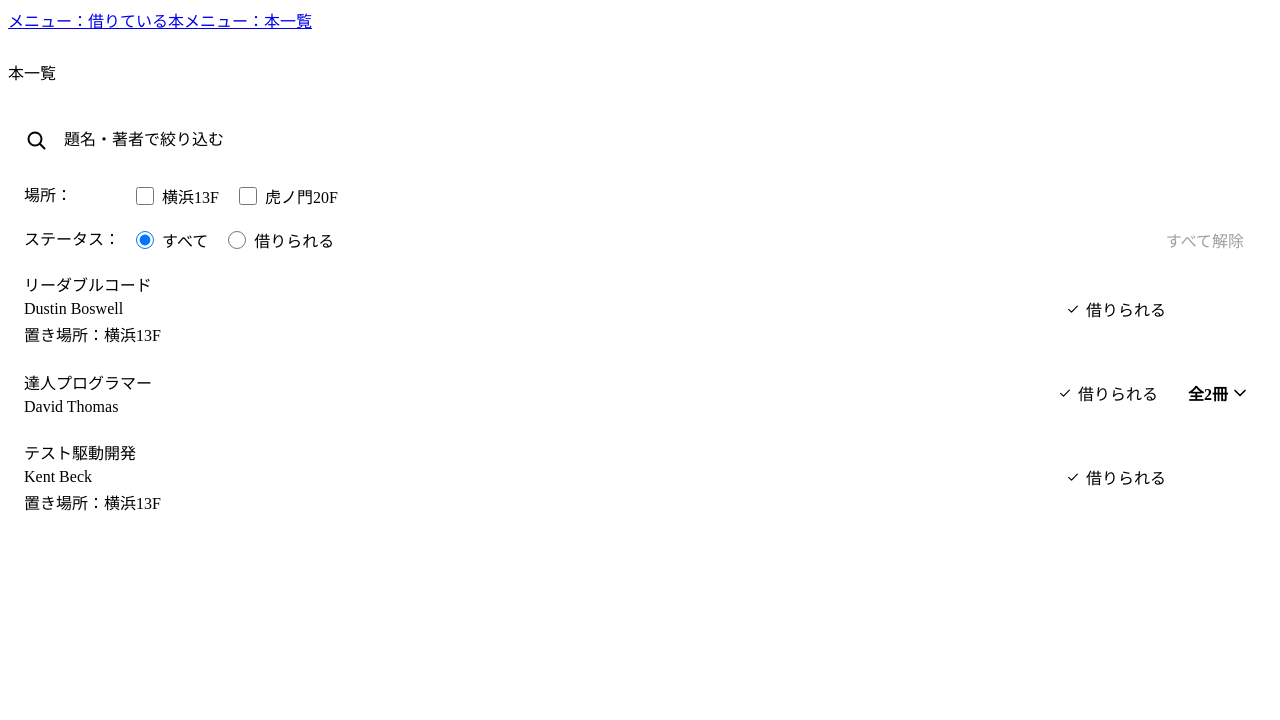
Test case: BookListPage の状態の保持 › KS-11: 検索してから本詳細画面へ移動して戻ると、検索の文字と絞り込んだ結果が残る
Step 1. Type "リーダブル" into the search field labelled "題名・著者で絞り込む" → (660, 140), box [64, 131, 1256, 149]
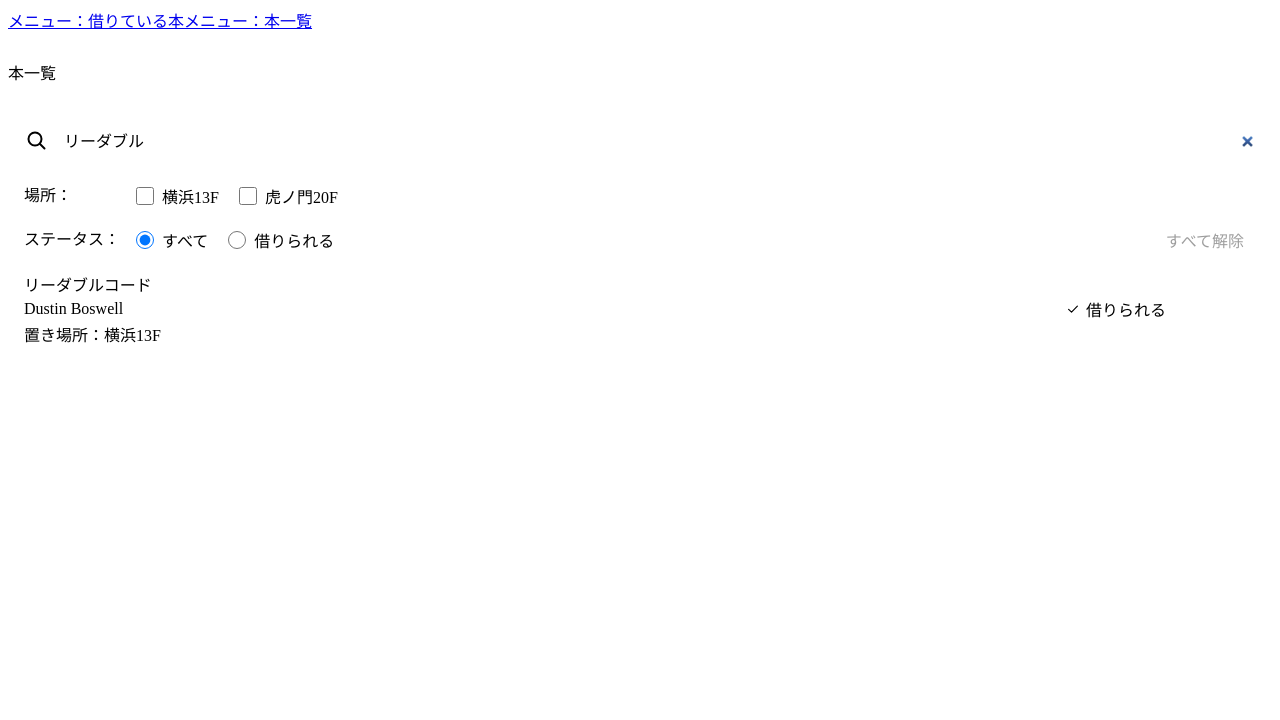
Step 2. Click the link "リーダブルコード Dustin Boswell 置き場所：横浜13F 借りられる" → click(88, 286), box [8, 260, 1272, 358]
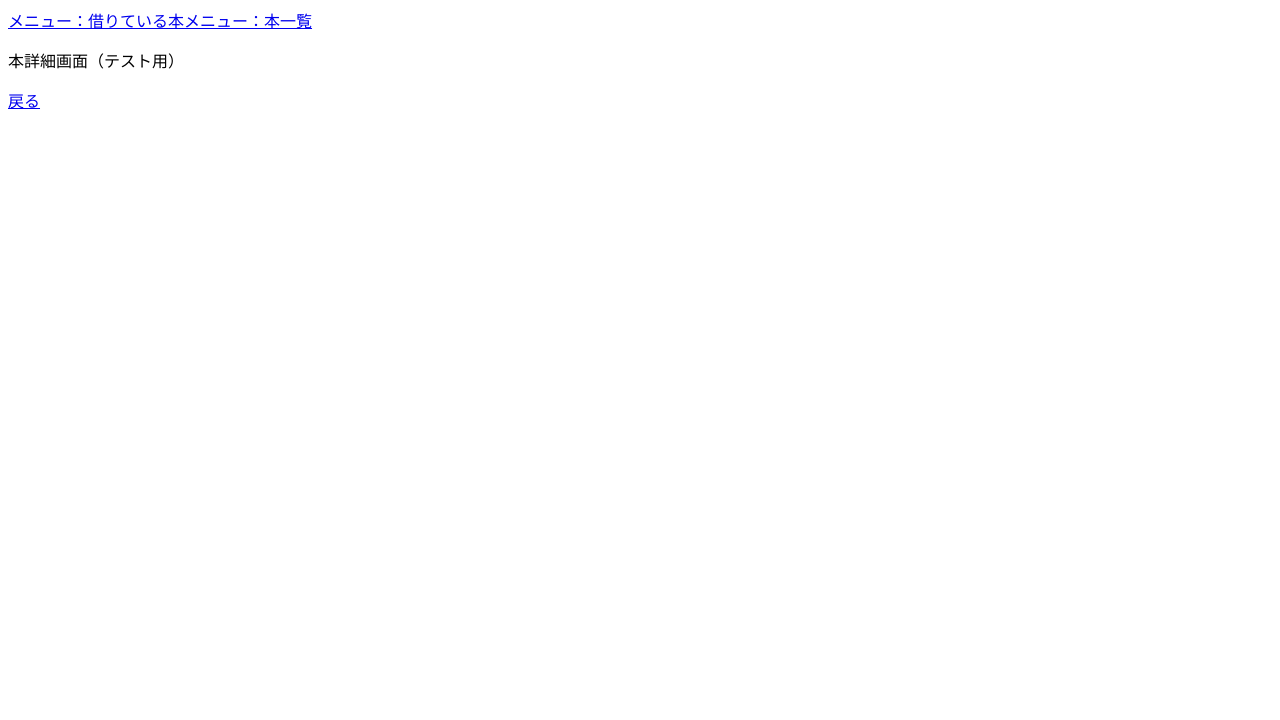
Result: the text "本詳細画面（テスト用）" is shown at [8, 53, 184, 70]
Step 3. Click the link "戻る" → click(24, 102), box [8, 93, 40, 110]
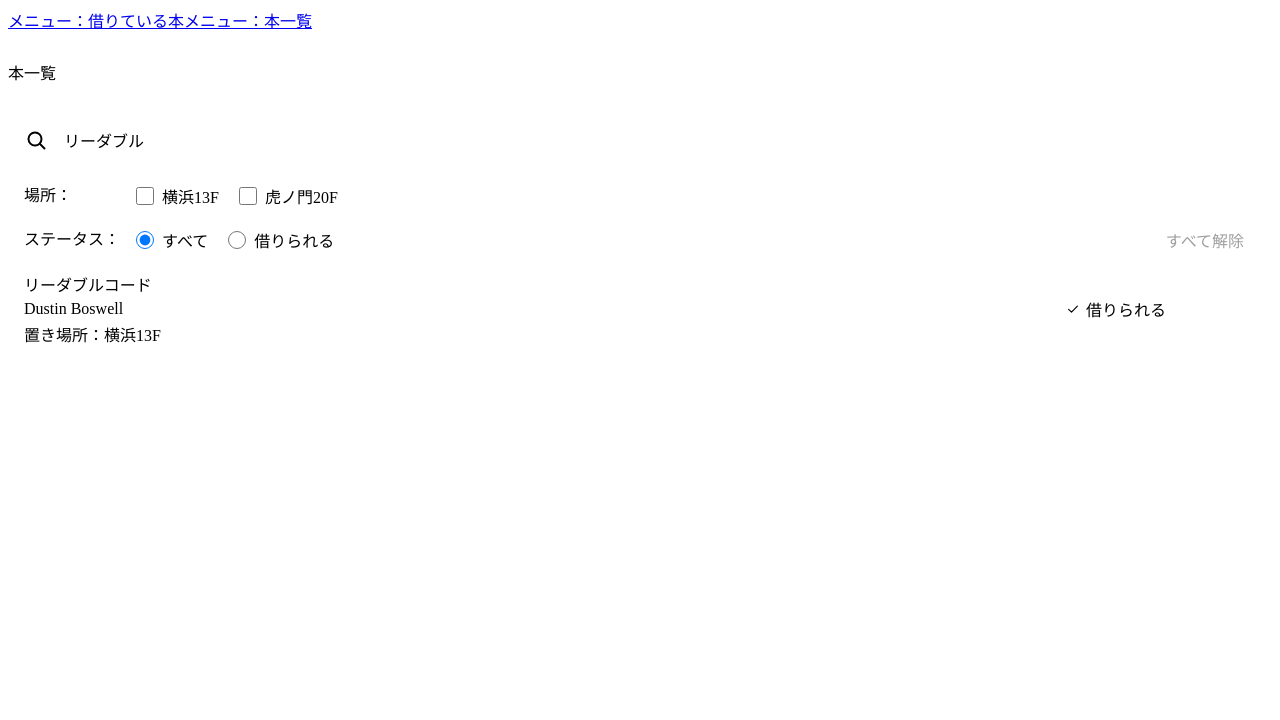
Result: the link "リーダブルコード Dustin Boswell 置き場所：横浜13F 借りられる" is shown at [8, 260, 1272, 358]
Result: the search field named "題名・著者で絞り込む" holds "リーダブル" at [64, 131, 1256, 149]
